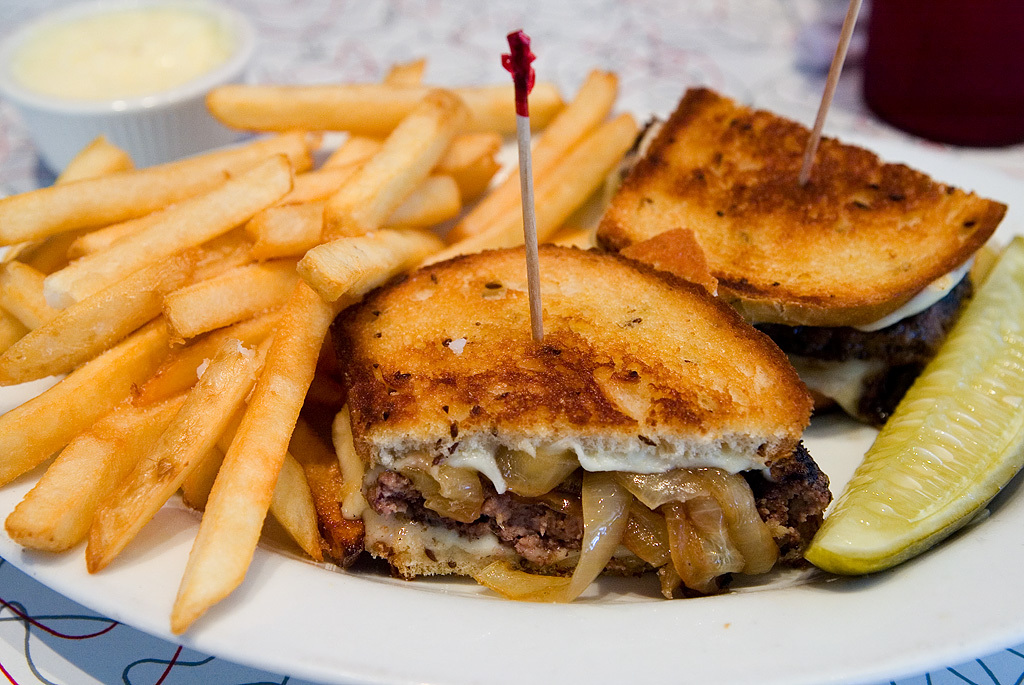French fries: (0, 48, 640, 635)
